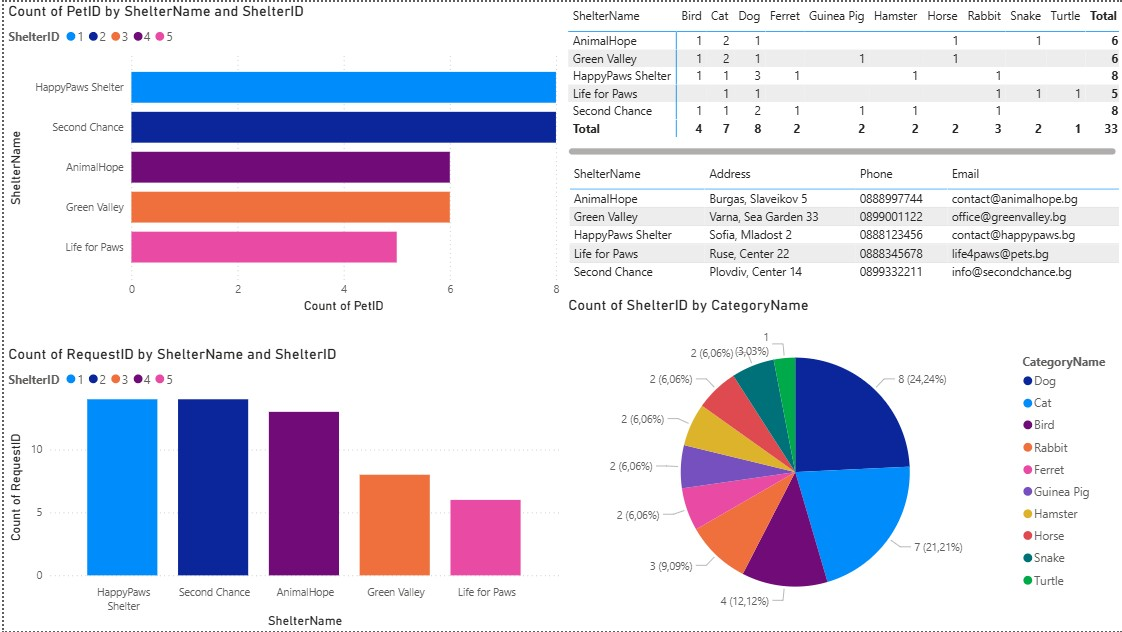

The page's visual inventory and layout, read from the dashboard file:
{"tool":"powerbi","page":{"name":"Shelters","canvas":[1280,720],"ordinal":3},"visuals":[{"type":"barChart","fields":{"Category":["Shelters.ShelterName"],"Series":["Shelters.ShelterID"],"Y":["CountNonNull(Pets.PetID)"]},"box":[0,0,640,360],"z":0},{"type":"columnChart","fields":{"Category":["Shelters.ShelterName"],"Y":["CountNonNull(AdoptionRequests.RequestID)"],"Series":["Shelters.ShelterID"]},"box":[0,391.4,640,328.6],"z":1000},{"type":"pivotTable","fields":{"Rows":["Shelters.ShelterName"],"Columns":["PetCategories.CategoryName"],"Values":["CountNonNull(Pets.PetID)"]},"box":[640,0,640,180],"z":2000},{"type":"tableEx","fields":{"Values":["Shelters.ShelterName","Shelters.Address","Shelters.Phone","Shelters.Email"]},"box":[640,180,640,155.7],"z":3000},{"type":"pieChart","fields":{"Y":["CountNonNull(Pets.ShelterID)"],"Category":["PetCategories.CategoryName"]},"box":[640,335.7,640,384.3],"z":4000}]}

Visuals, with their boxes in screenshot pixels (x1, y1, x2, y2), scaled from the page's 1280x720 canvas onto the 1122x632 screenshot:
barChart - Shelters.ShelterName x Shelters.ShelterID: {"x1": 0, "y1": 0, "x2": 561, "y2": 316}
columnChart - Shelters.ShelterName x CountNonNull(AdoptionRequests.RequestID): {"x1": 0, "y1": 344, "x2": 561, "y2": 631}
pivotTable - Shelters.ShelterName x PetCategories.CategoryName: {"x1": 561, "y1": 0, "x2": 1121, "y2": 158}
tableEx - Shelters.ShelterName x Shelters.Address: {"x1": 561, "y1": 158, "x2": 1121, "y2": 295}
pieChart - CountNonNull(Pets.ShelterID) x PetCategories.CategoryName: {"x1": 561, "y1": 295, "x2": 1121, "y2": 631}
